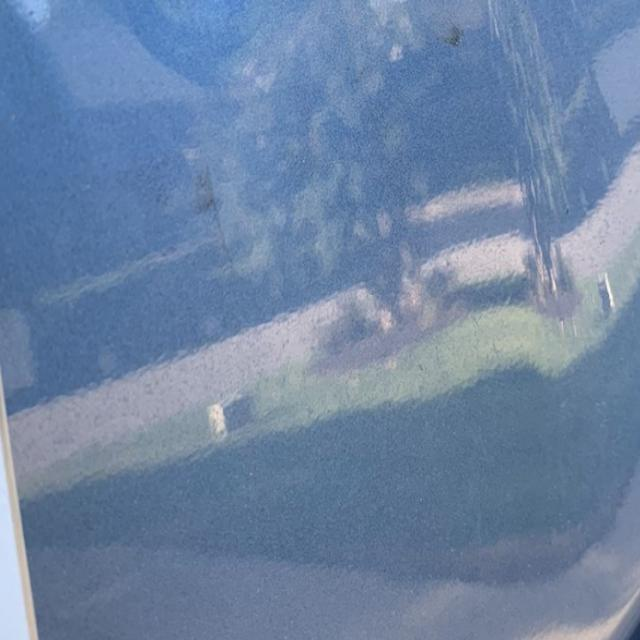dents: (188, 380, 288, 478), (584, 260, 640, 353)
